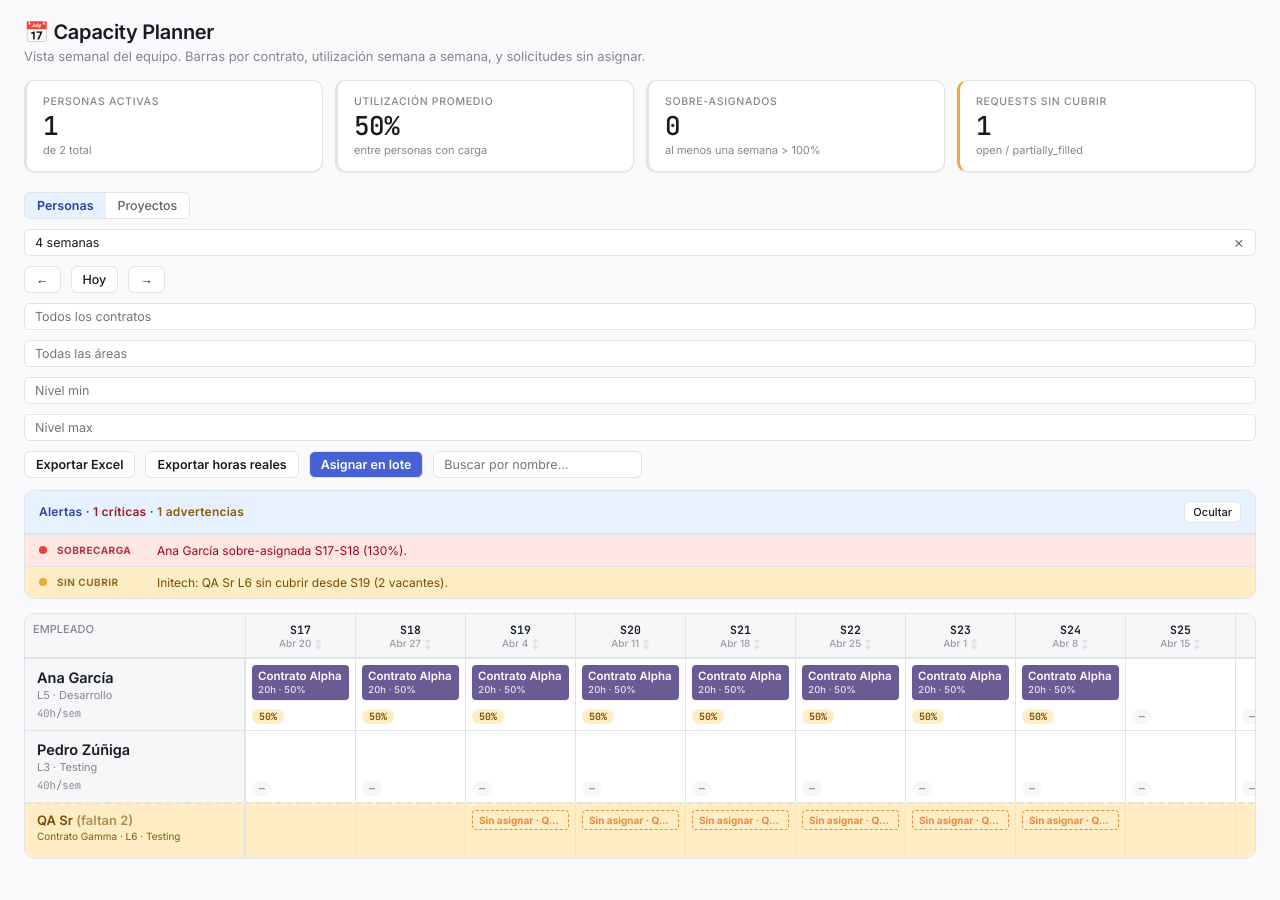
Test case: CapacityPlanner module › clicking an unassigned row opens the candidates modal (US-RR-3)
Click the button with test id "unassigned-row-rr9": (652, 830) x1=25 y1=802 x2=1279 y2=858
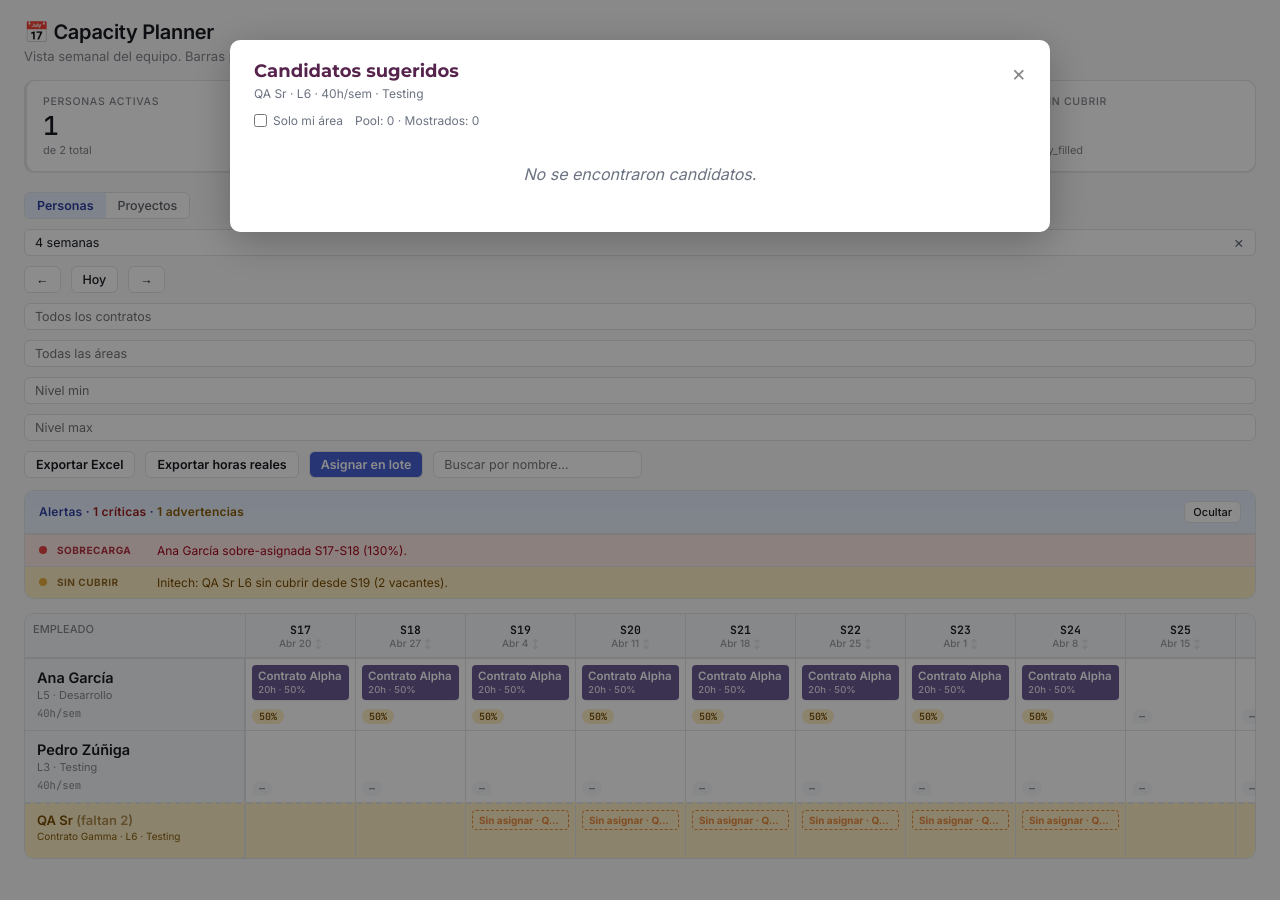
Check: the dialog "Candidatos" is shown
